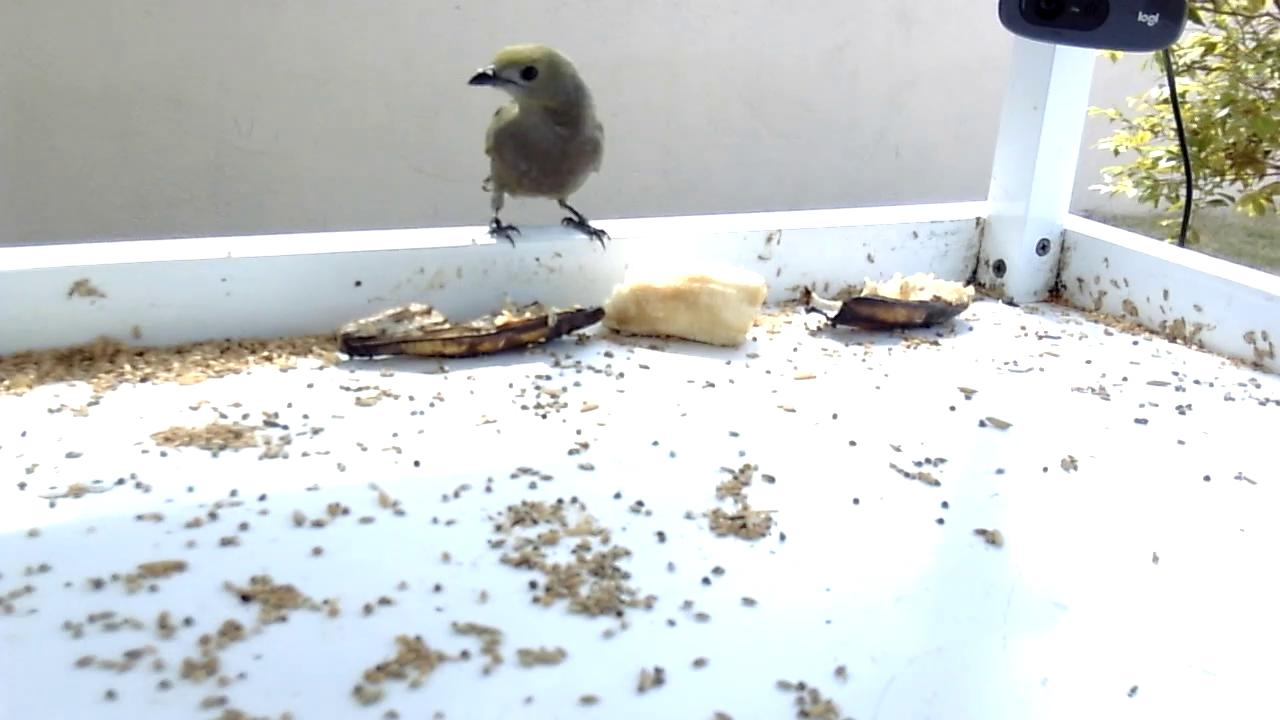sanhaco_do_coqueiro: (467, 43, 613, 251)
